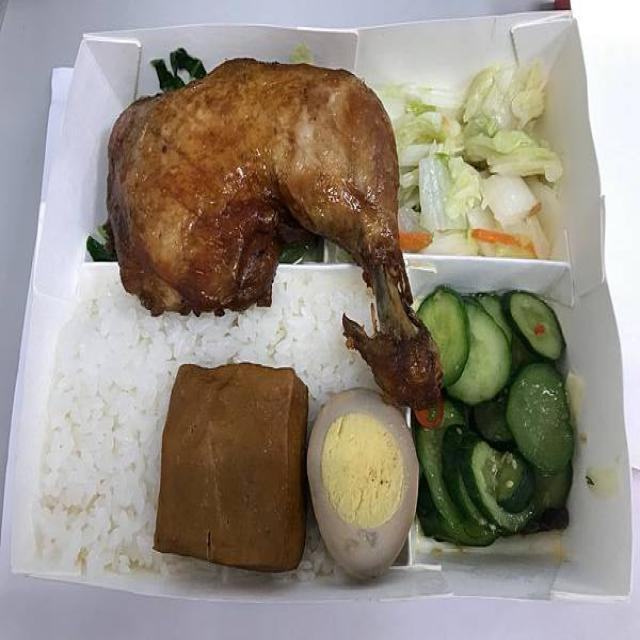Chicken Leg Steak: (115, 103, 413, 319)
braised egg: (315, 412, 418, 554)
cabbage: (422, 105, 555, 252)
rice: (59, 332, 141, 564)
